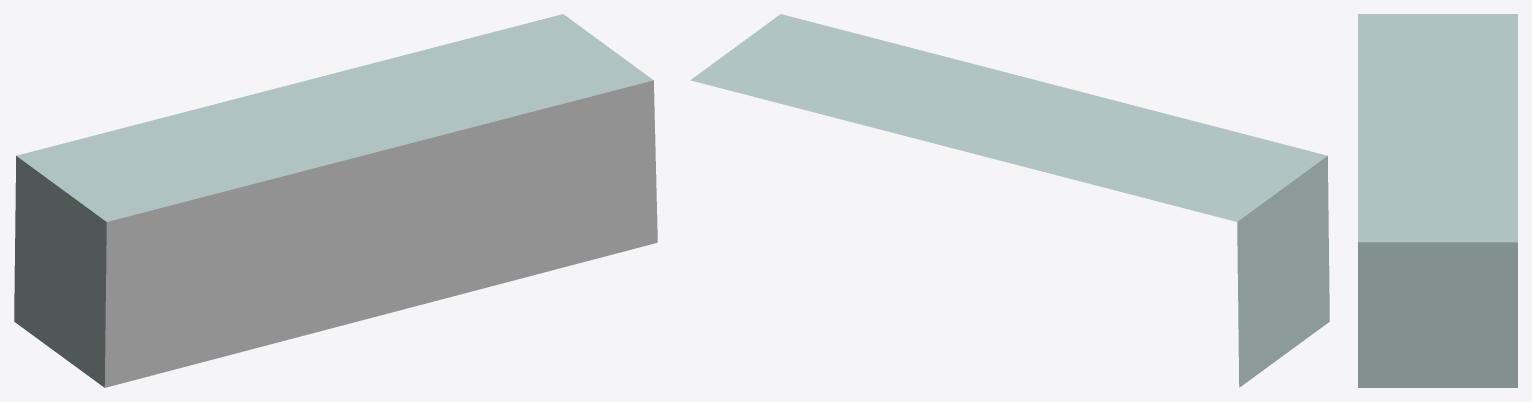
3 renders of one model, left to right at view 1: azimuth 30°, elevation 25°; view 2: azimuth 150°, elevation 25°; view 3: azimuth 270°, elevation 25°, orthographic. The views are drawn at different scales.
Parts seen in each view (by area): view 1: 0_3_1_2_0_3_3_0_1; view 2: 0_3_1_2_0_3_3_0_1; view 3: 0_3_1_2_0_3_3_0_1.
Boxes of the visible parts, bbox=[...] form: 0_3_1_2_0_3_3_0_1: bbox=[14, 14, 657, 387]; 0_3_1_2_0_3_3_0_1: bbox=[690, 14, 1329, 387]; 0_3_1_2_0_3_3_0_1: bbox=[1358, 14, 1517, 387].
Size of the model in its own units: 10.57 by 3.17 by 3.
